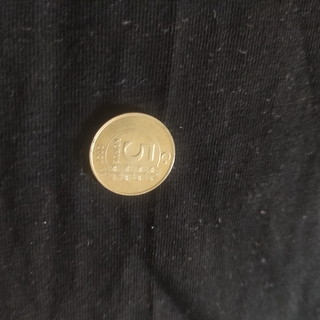5KURUS: (87, 110, 177, 199)
